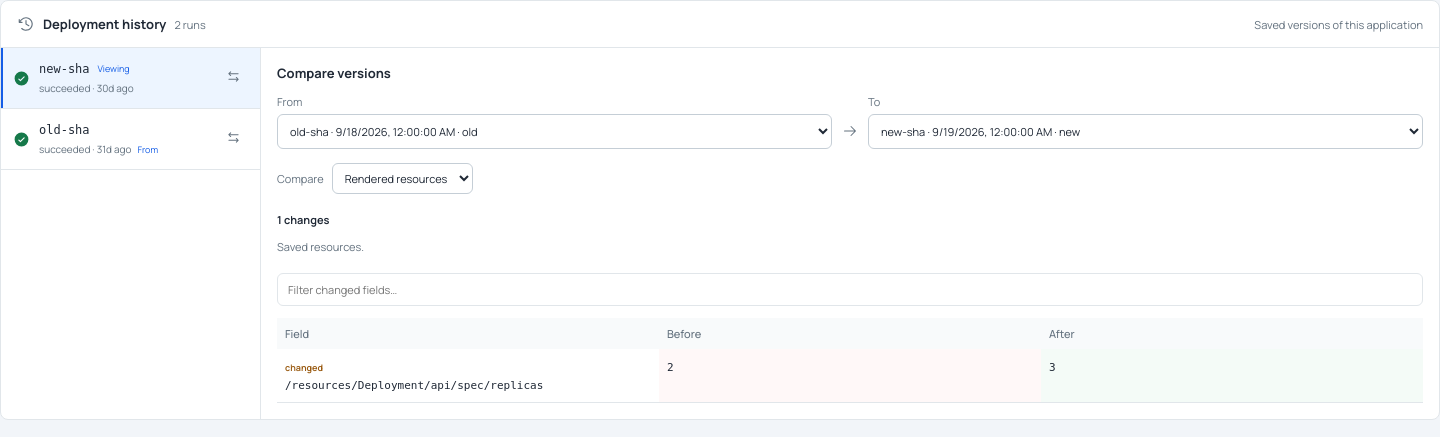
Scenario: ignores an input response after switching back to resources
Expected: the text "/resources/Deployment/api/spec/replicas" is shown, x1=285 y1=379 x2=543 y2=392
Select "Saved inputs" in the dropdown named "Comparison details". click: coordinates (402, 178)
box: x1=332 y1=163 x2=473 y2=194
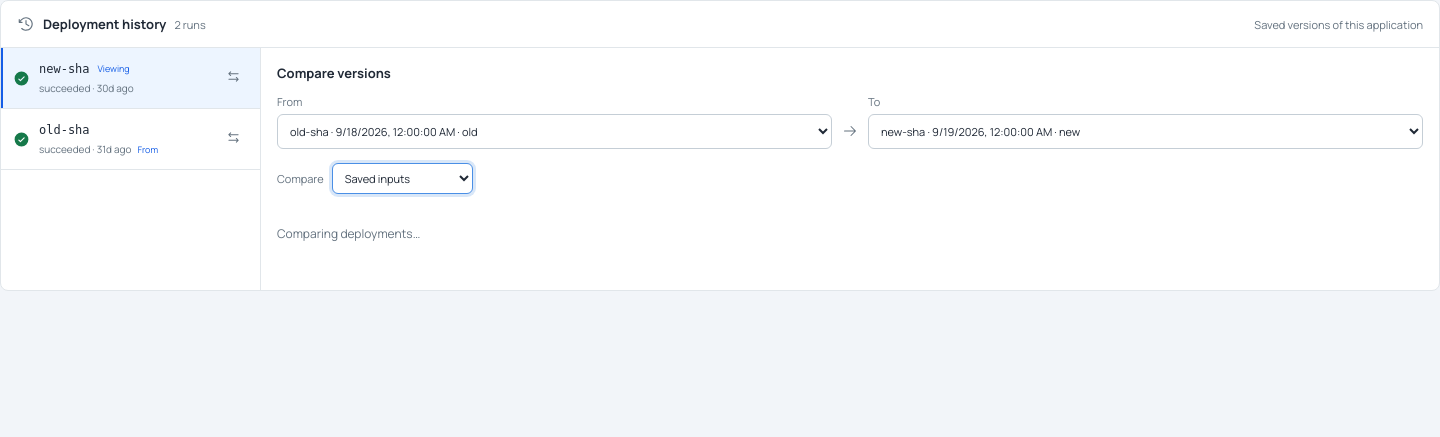
Expected: the message reads "Comparing deployments…", x1=277 y1=225 x2=420 y2=242
Select "Rendered resources" in the dropdown named "Comparison details". click: coordinates (402, 178)
box: x1=332 y1=163 x2=473 y2=194
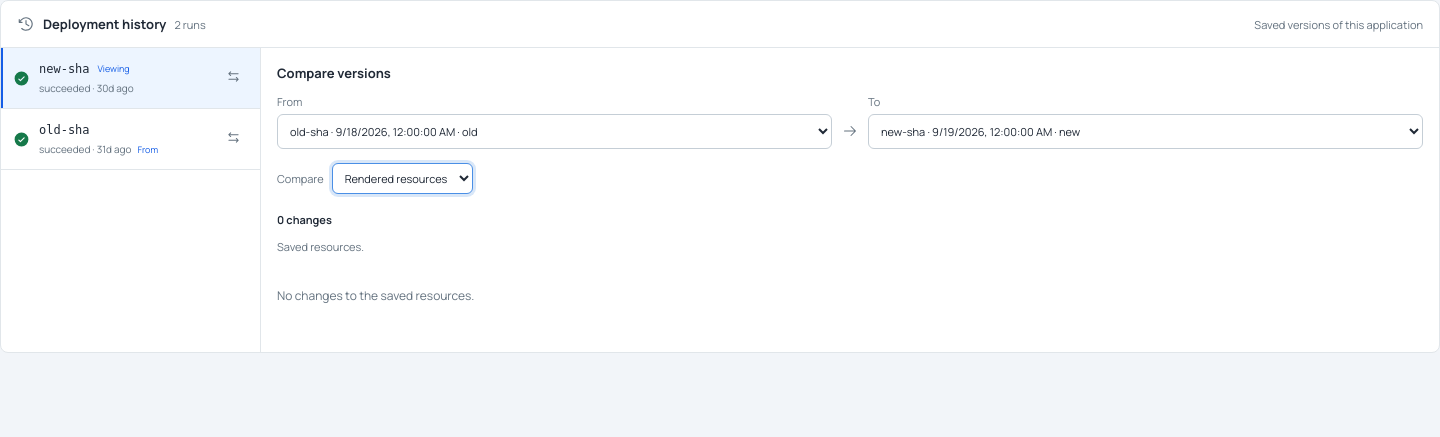
Expected: the text "No changes to the saved resources." is shown, x1=277 y1=287 x2=474 y2=304
